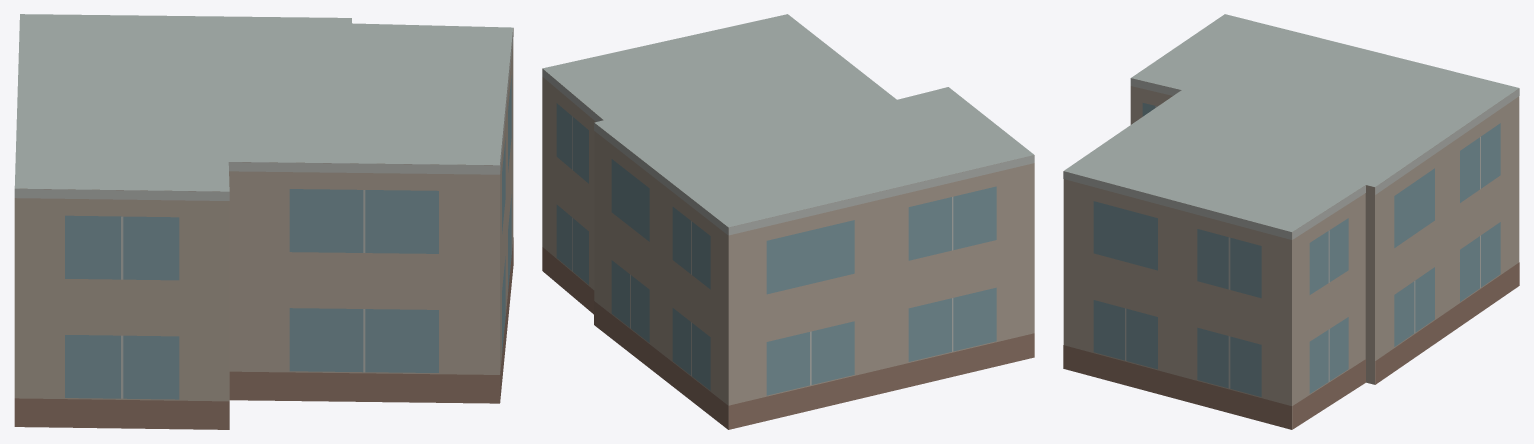
File: survey-upis-32673197.glb
3 views of the same model, side by side, from view 1: azimuth 30°, elevation 25°; view 2: azimuth 150°, elevation 25°; view 3: azimuth 270°, elevation 25° (orthographic). The views are drawn at different scales.
Visible parts, largest first — view 1: survey-upis-32673197.tmp; view 2: survey-upis-32673197.tmp; view 3: survey-upis-32673197.tmp.
Boxes of the visible parts, x1,y1,x2,y2 form: survey-upis-32673197.tmp: [14, 14, 513, 429]; survey-upis-32673197.tmp: [542, 14, 1034, 429]; survey-upis-32673197.tmp: [1063, 14, 1519, 429].
Bounding box in the file's own units: 14.45 × 6.1 × 12.76.
